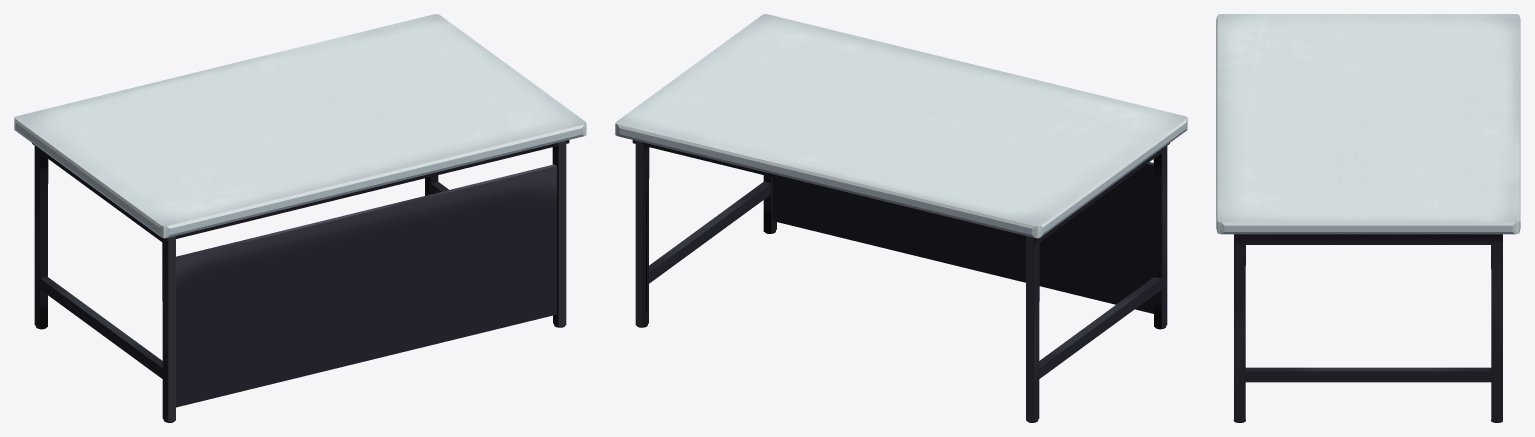
File: Desk.fbx
3 renders of one model, left to right at view 1: azimuth 30°, elevation 25°; view 2: azimuth 150°, elevation 25°; view 3: azimuth 270°, elevation 25°, orthographic.
Parts seen in each view (by area): view 1: Box001; view 2: Box001; view 3: Box001.
Boxes of the visible parts, <box> form: Box001: <box>14,14,586,422</box>; Box001: <box>615,14,1187,422</box>; Box001: <box>1216,14,1520,422</box>.
Bounding box in the file's own units: 119 × 54.96 × 73.27.
